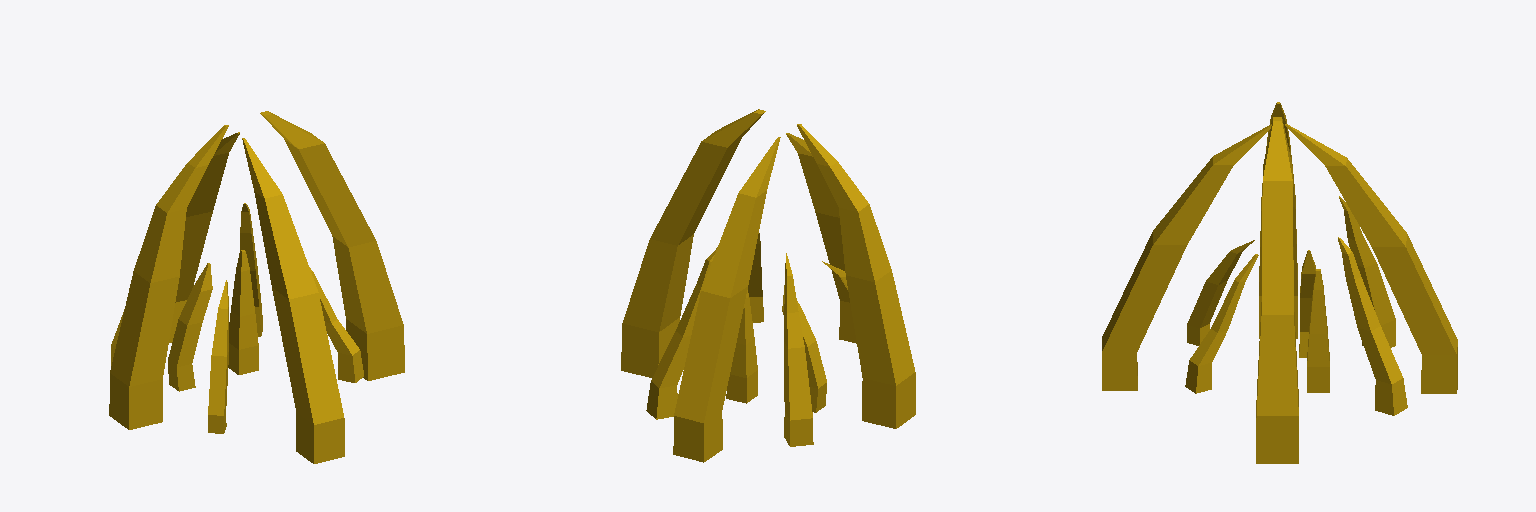
File: Huesos.obj
3 renders of one model, left to right at view 1: azimuth 30°, elevation 25°; view 2: azimuth 150°, elevation 25°; view 3: azimuth 270°, elevation 25°, orthographic.
Visible parts, largest first — view 1: Hueso.001; view 2: Hueso.001; view 3: Hueso.001.
Part boxes in pixels (x1,y1,x2,y2): Hueso.001: (109, 111, 404, 463); Hueso.001: (621, 109, 915, 462); Hueso.001: (1102, 102, 1457, 463).
Size of the model in its own units: 0.9179 by 0.9008 by 1.03.